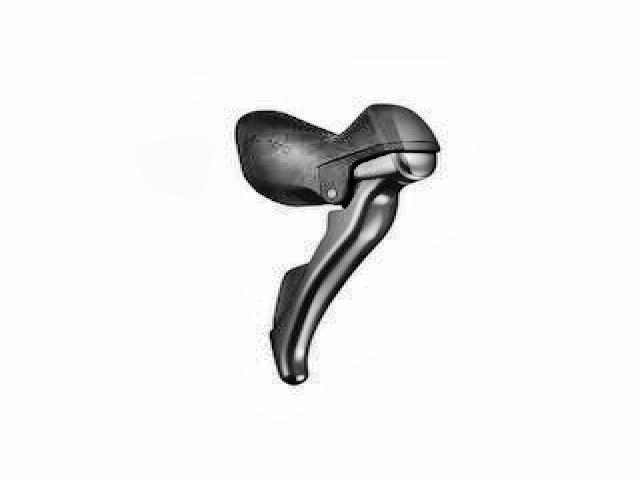sti_shifter: (225, 102, 450, 387)
